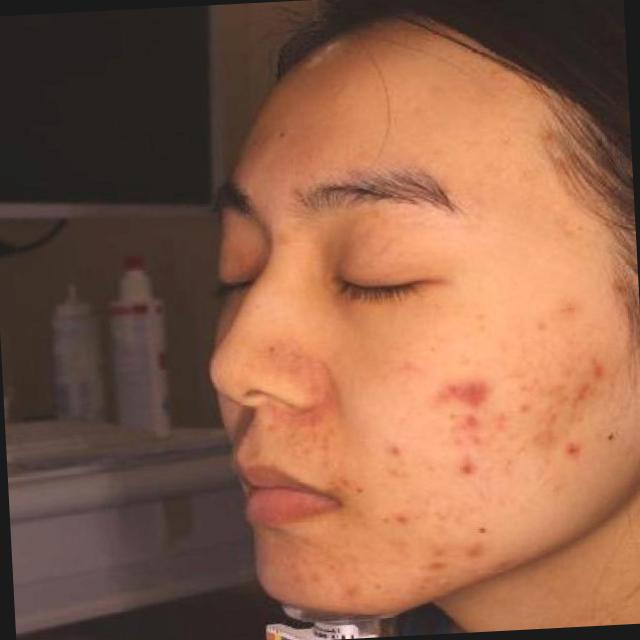acne: (426, 374, 498, 419), (584, 349, 617, 384), (570, 377, 598, 415), (461, 532, 492, 566), (452, 409, 494, 433)
blackhead: (472, 517, 498, 538), (348, 480, 372, 500)
darkspot: (600, 428, 623, 448)
nodules: (554, 432, 595, 467), (386, 503, 419, 536), (450, 453, 484, 482), (379, 437, 414, 465)
